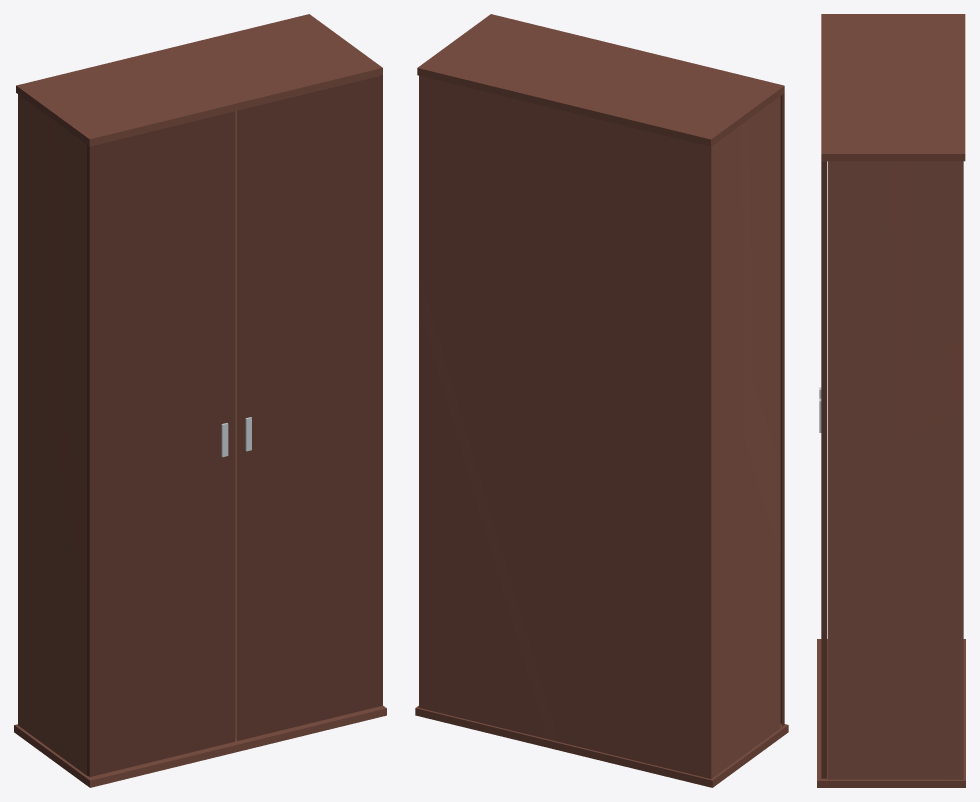
Rendered from closet_008.glb.
3 renders of one model, left to right at view 1: azimuth 30°, elevation 25°; view 2: azimuth 150°, elevation 25°; view 3: azimuth 270°, elevation 25°, orthographic. The views are drawn at different scales.
Visible parts, largest first — view 1: closet_008; view 2: closet_008; view 3: closet_008.
Boxes of the visible parts, bbox=[...] form: closet_008: bbox=[14, 14, 386, 787]; closet_008: bbox=[415, 14, 788, 787]; closet_008: bbox=[817, 14, 965, 787].
Size of the model in its own units: 0.85 by 1.77 by 0.3769.
1 material, 1 textured.
